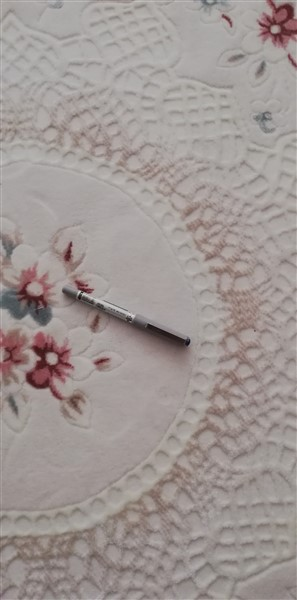pilot kalem: (58, 282, 197, 353)
